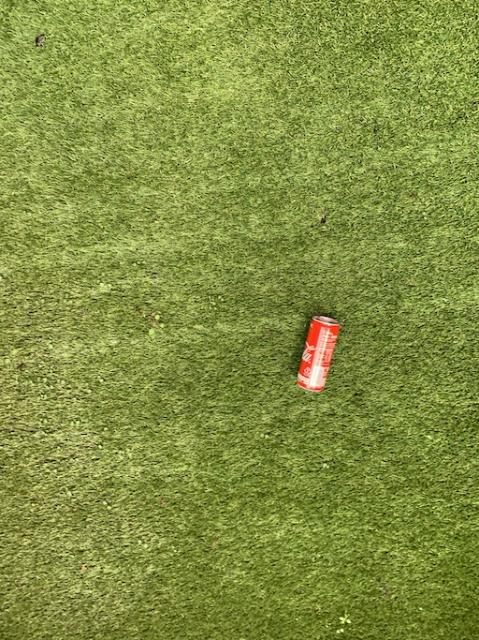metal: (296, 315, 338, 390)
